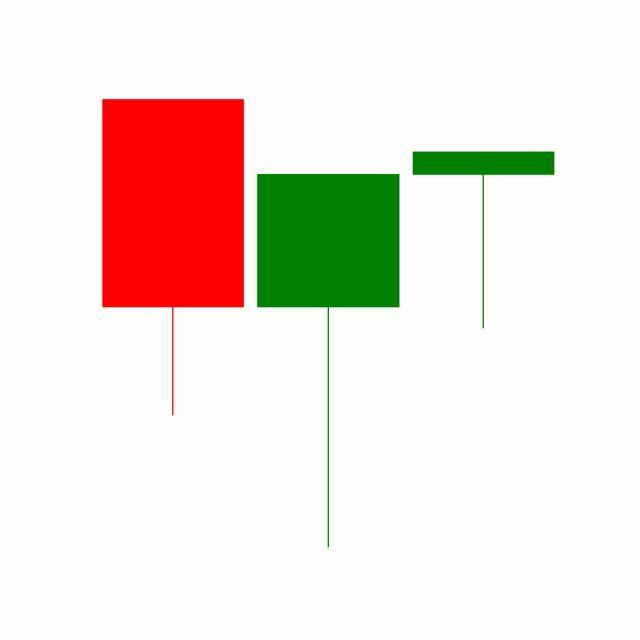Dragonfly Doji: (406, 150, 562, 331)
